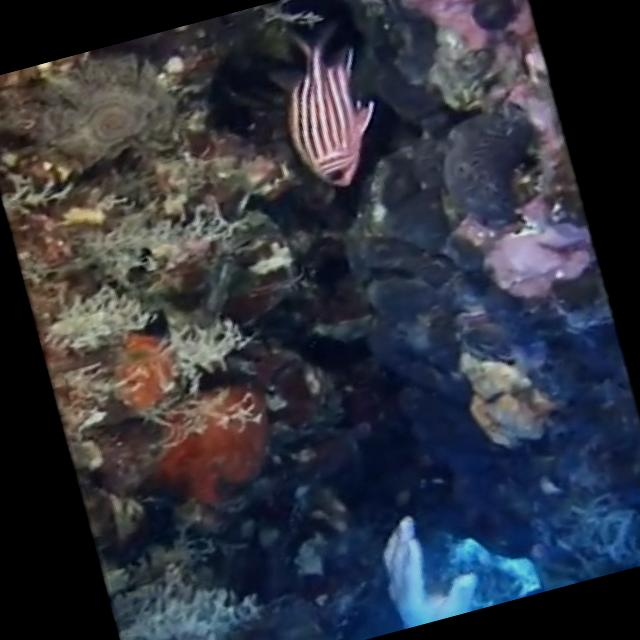Asker Baligi: (260, 19, 396, 200)
